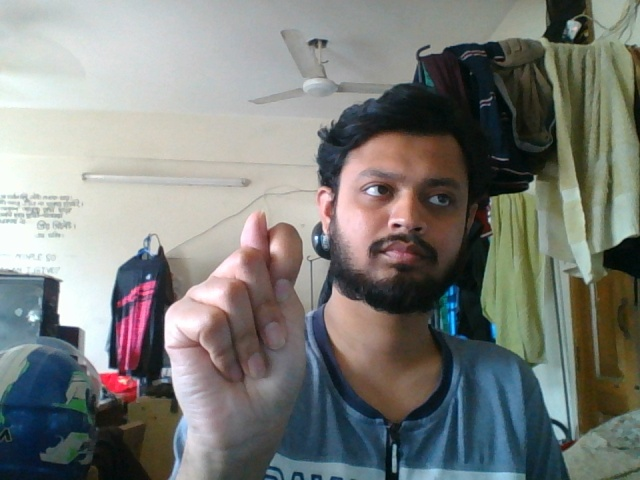ta: (164, 204, 311, 478)
